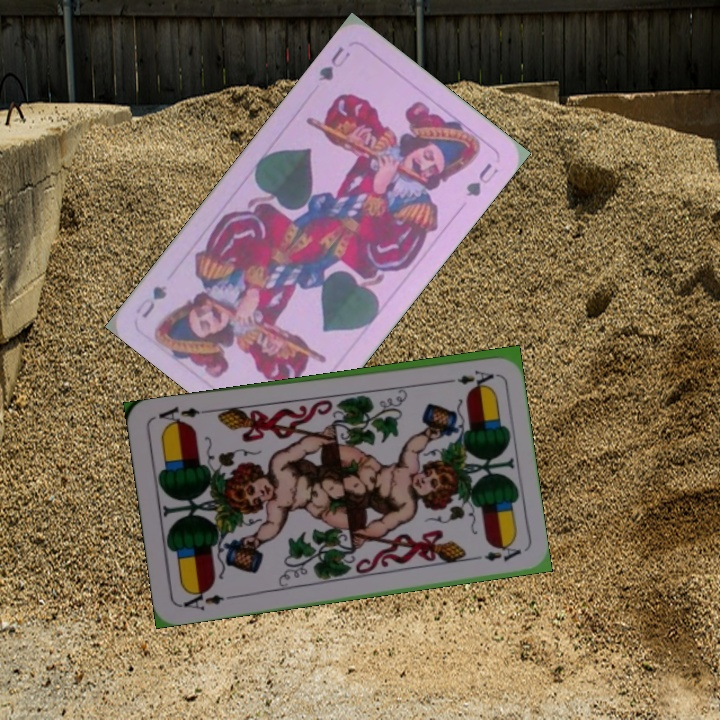EA: (177, 585, 227, 613), (438, 366, 497, 387)
GU: (314, 42, 353, 84)
